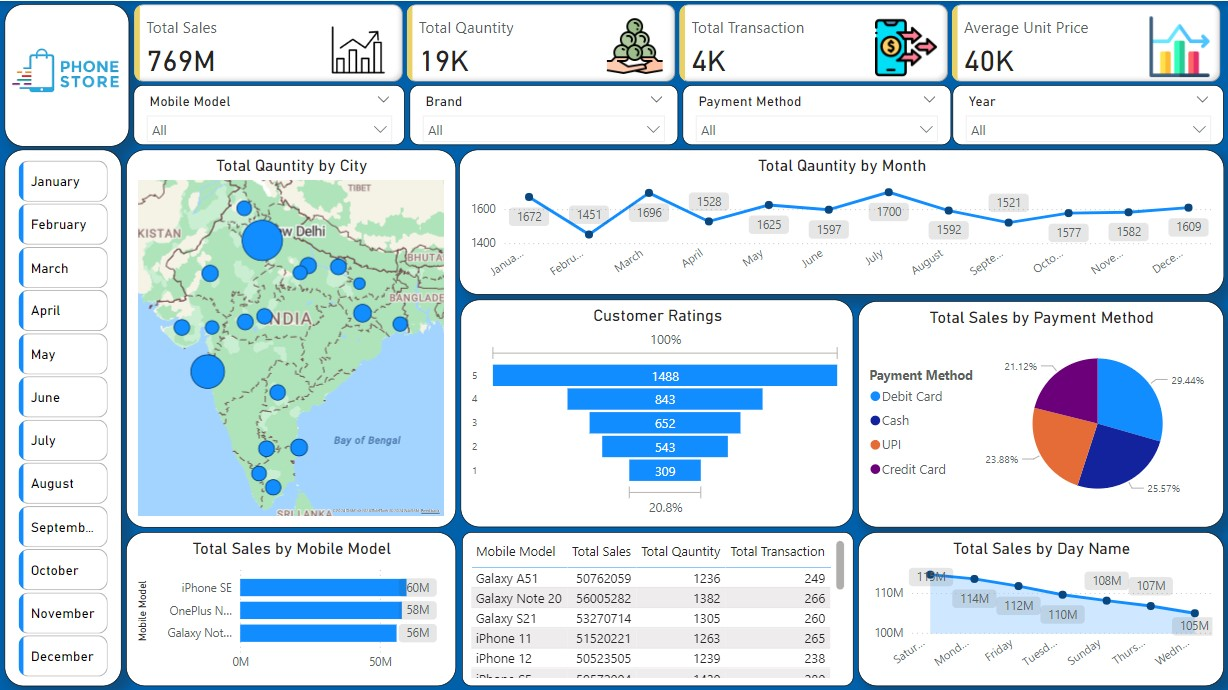

The dashboard page shown, as its layout file describes it:
{"tool":"powerbi","page":{"name":"Dashboard","canvas":[1280,720],"ordinal":0},"visuals":[{"type":"shape","box":[4.7,3.1,129.7,148.5],"z":0},{"type":"shape","box":[4.7,154.7,121.9,559.5],"z":1000},{"type":"advancedSlicerVisual","fields":{"Values":["Mobile Sales Data.Date.Variation.Date Hierarchy.Month"]},"box":[14.1,161,103.2,559.5],"z":2000},{"type":"cardVisual","fields":{"Data":["Mobile Sales Data.Total Sales","Mobile Sales Data.Total Qauntity","Mobile Sales Data.Total Transaction","Mobile Sales Data.Average Unit Price"]},"box":[134.4,0,1145.7,89.1],"z":3000},{"type":"lineChart","fields":{"Category":["Mobile Sales Data.Date.Variation.Date Hierarchy.Month","Mobile Sales Data.Date.Variation.Date Hierarchy.Day"],"Y":["Mobile Sales Data.Total Qauntity"]},"box":[478.3,154.7,797.1,151.6],"z":4000},{"type":"barChart","fields":{"Category":["Mobile Sales Data.Mobile Model"],"Y":["Mobile Sales Data.Total Sales"]},"box":[131.3,553.3,343.9,161],"z":5000},{"type":"pieChart","fields":{"Category":["Mobile Sales Data.Payment Method"],"Y":["Mobile Sales Data.Total Sales"]},"box":[894,312.6,381.4,236],"z":6000},{"type":"funnel","title":"Customer Ratings","fields":{"Y":["CountNonNull(Mobile Sales Data.Customer Ratings)"],"Category":["Mobile Sales Data.Customer Ratings"]},"box":[479.8,311,409.5,237.6],"z":7000},{"type":"areaChart","fields":{"Category":["Mobile Sales Data.Day Name"],"Y":["Mobile Sales Data.Total Sales"]},"box":[894,553.3,381.4,161],"z":8000},{"type":"tableEx","fields":{"Values":["Mobile Sales Data.Mobile Model","Mobile Sales Data.Total Sales","Mobile Sales Data.Total Qauntity","Mobile Sales Data.Total Transaction"]},"box":[481.4,553.3,407.9,161],"z":9000},{"type":"slicer","fields":{"Values":["Mobile Sales Data.Mobile Model"]},"box":[139.1,87.5,282.9,62.5],"z":10000},{"type":"slicer","fields":{"Values":["Mobile Sales Data.Brand"]},"box":[426.7,87.5,279.8,62.5],"z":11000},{"type":"slicer","fields":{"Values":["Mobile Sales Data.Payment Method"]},"box":[711.2,87.5,279.8,62.5],"z":12000},{"type":"slicer","fields":{"Values":["Mobile Sales Data.Year"]},"box":[992.5,87.5,282.9,62.5],"z":13000},{"type":"image","box":[4.7,0,131.3,150],"z":14000},{"type":"map","fields":{"Category":["Mobile Sales Data.City"],"Size":["Mobile Sales Data.Total Qauntity"]},"box":[131.3,154.7,343.9,393.9],"z":15000}]}

Visuals, with their boxes in screenshot pixels (x1, y1, x2, y2), scaled from the page's 1280x720 canvas onto the 1228x690 screenshot:
shape: (5,3,129,145)
shape: (5,148,121,684)
advancedSlicerVisual - Mobile Sales Data.Date.Variation.Date Hierarchy.Month: (14,154,113,689)
cardVisual - Mobile Sales Data.Total Sales x Mobile Sales Data.Total Qauntity: (129,0,1227,85)
lineChart - Mobile Sales Data.Date.Variation.Date Hierarchy.Month x Mobile Sales Data.Date.Variation.Date Hierarchy.Day: (459,148,1224,294)
barChart - Mobile Sales Data.Mobile Model x Mobile Sales Data.Total Sales: (126,530,456,685)
pieChart - Mobile Sales Data.Payment Method x Mobile Sales Data.Total Sales: (858,300,1224,526)
"Customer Ratings" funnel: (460,298,853,526)
areaChart - Mobile Sales Data.Day Name x Mobile Sales Data.Total Sales: (858,530,1224,685)
tableEx - Mobile Sales Data.Mobile Model x Mobile Sales Data.Total Sales: (462,530,853,685)
slicer - Mobile Sales Data.Mobile Model: (133,84,405,144)
slicer - Mobile Sales Data.Brand: (409,84,678,144)
slicer - Mobile Sales Data.Payment Method: (682,84,951,144)
slicer - Mobile Sales Data.Year: (952,84,1224,144)
image: (5,0,130,144)
map - Mobile Sales Data.City x Mobile Sales Data.Total Qauntity: (126,148,456,526)
